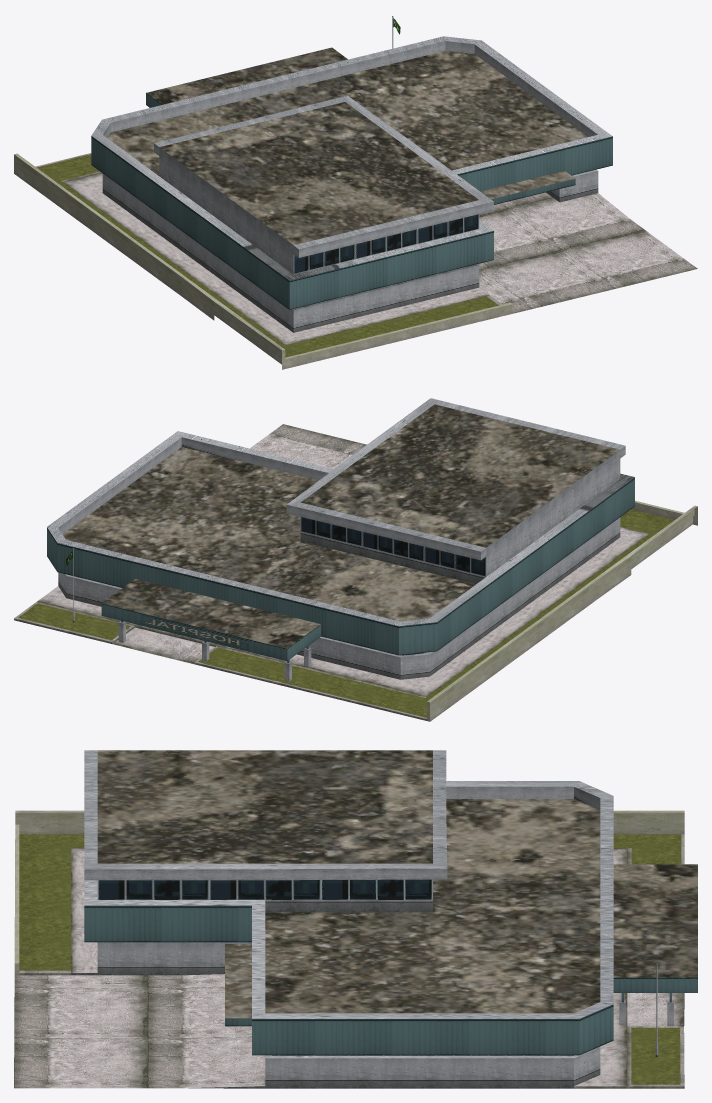
Rendered from sw_med1.obj.
3 views of the same model, one above another, from view 1: azimuth 30°, elevation 25°; view 2: azimuth 150°, elevation 25°; view 3: azimuth 270°, elevation 25° (orthographic). The views are drawn at different scales.
Visible parts, largest first — view 1: sw_med1; view 2: sw_med1; view 3: sw_med1.
Part boxes in pixels (x1,y1,x2,y2): sw_med1: (14, 16, 697, 369); sw_med1: (14, 398, 697, 721); sw_med1: (14, 750, 697, 1088).
Bounding box in the file's own units: 45.84 × 9.2 × 51.03.
Materials: 11 (11 with a texture image).
